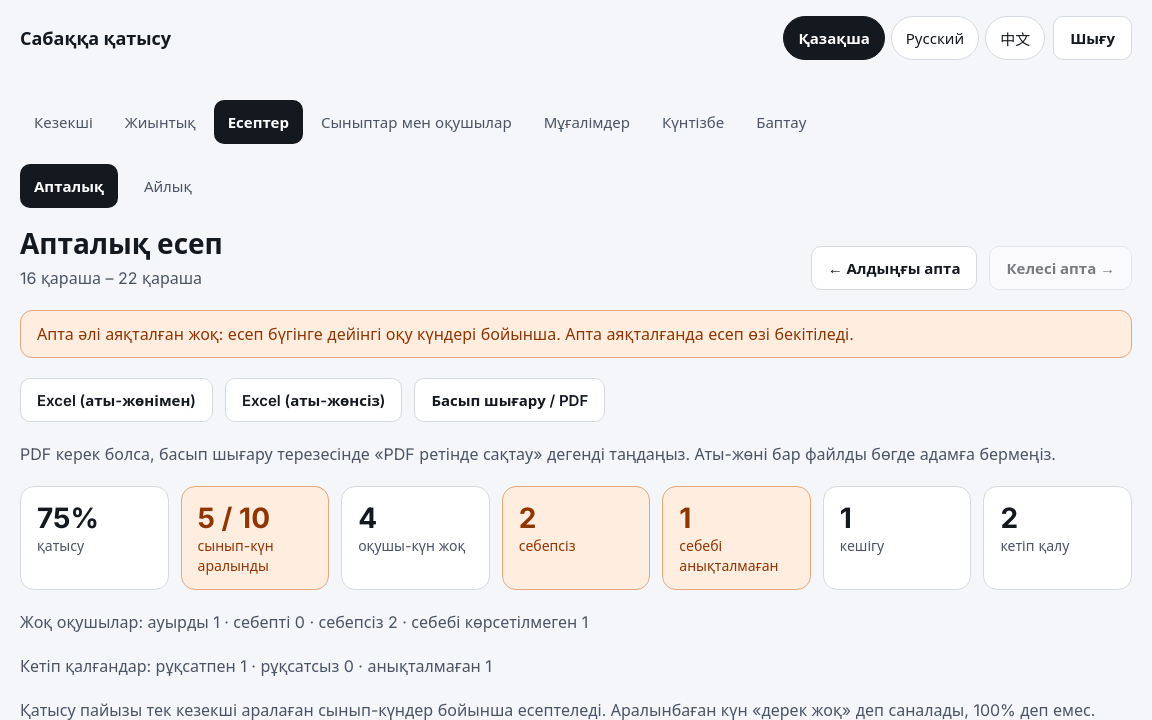
Test: апталық есеп › өткен апта: бекітілген есеп туралы хабар, бекітілген нұсқа мен қазіргі күй арасында ауысу
Click the button "← Алдыңғы апта" at (894,268), box [811, 246, 978, 290]
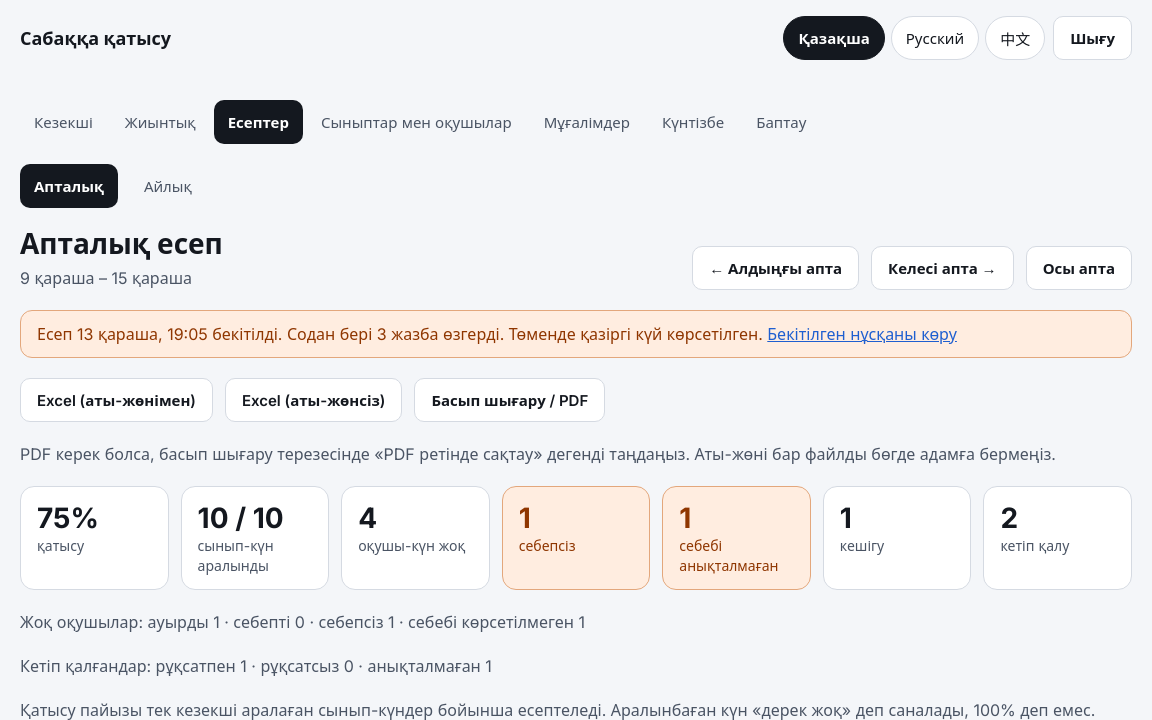
expect the text "9 қараша – 15 қараша" is shown: met, box [20, 268, 192, 288]
expect the text "Есеп 13 қараша, 19:05 бекітілді" shows "Содан бері 3 жазба өзгерді. Төменде қазіргі күй көрсетілген.": met, box [20, 310, 1132, 358]
expect the text "Апта әлі аяқталған жоқ" is gone: met
Click the button "Бекітілген нұсқаны көру" at (862,334), box [767, 323, 957, 345]
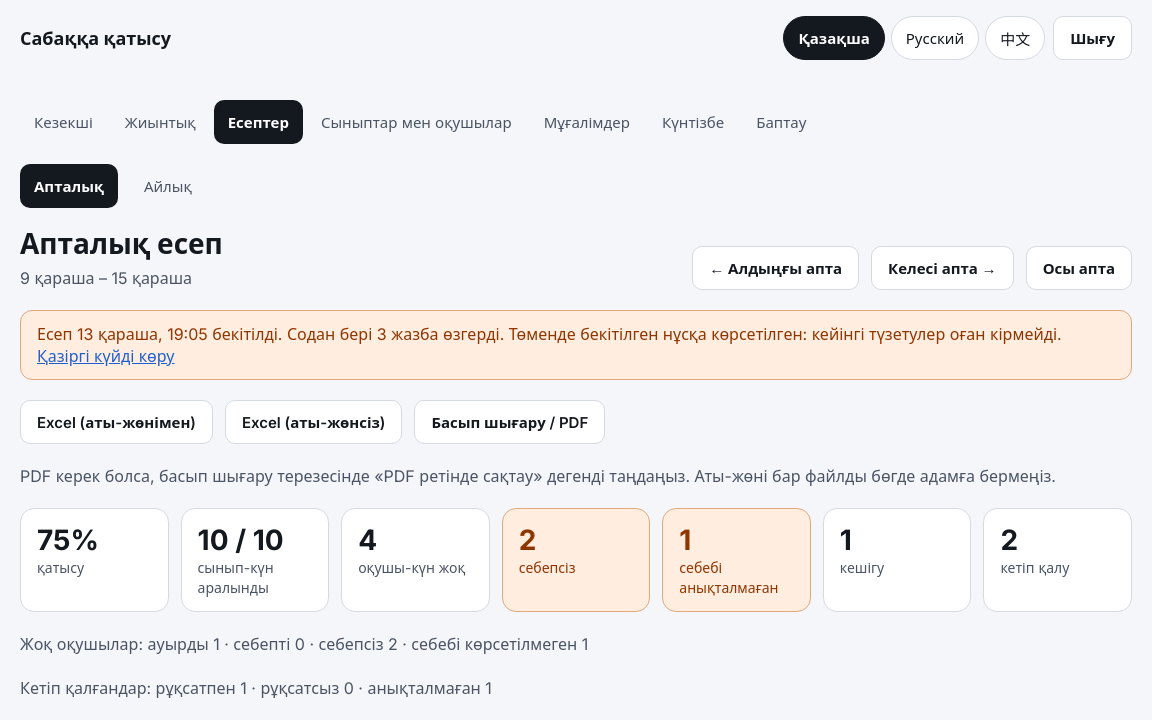
expect the text "Төменде бекітілген нұсқа көрсетілген" is shown: met, box [509, 324, 1062, 344]
Click the button "Қазіргі күйді көру" at (106,356), box [37, 345, 174, 367]
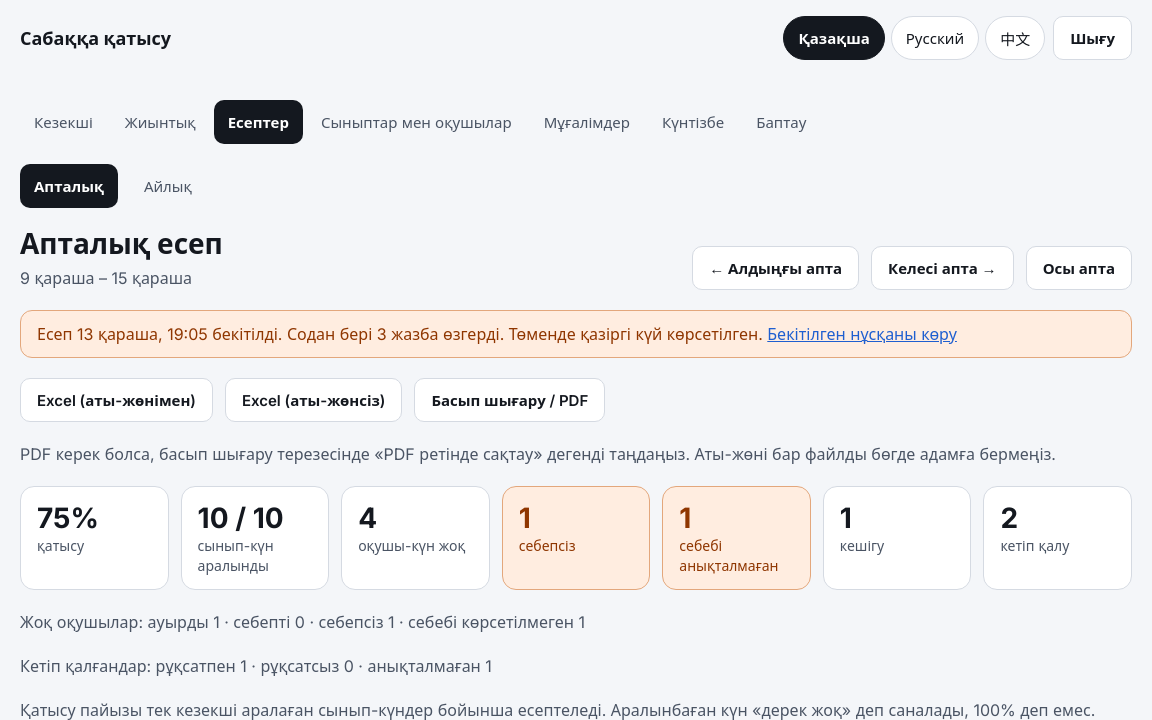
expect the text "Төменде қазіргі күй көрсетілген" is shown: met, box [509, 324, 763, 344]
Click the button "Осы апта" at (1079,268), box [1026, 246, 1132, 290]
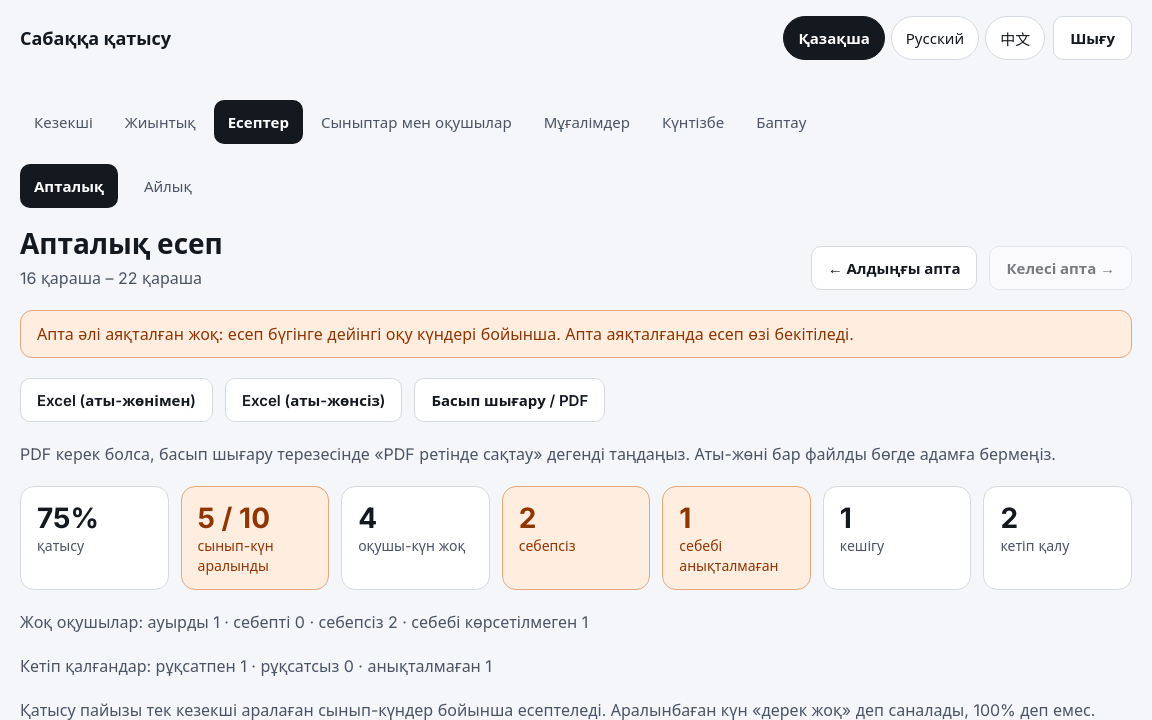
expect the text "16 қараша – 22 қараша" is shown: met, box [20, 266, 223, 290]
